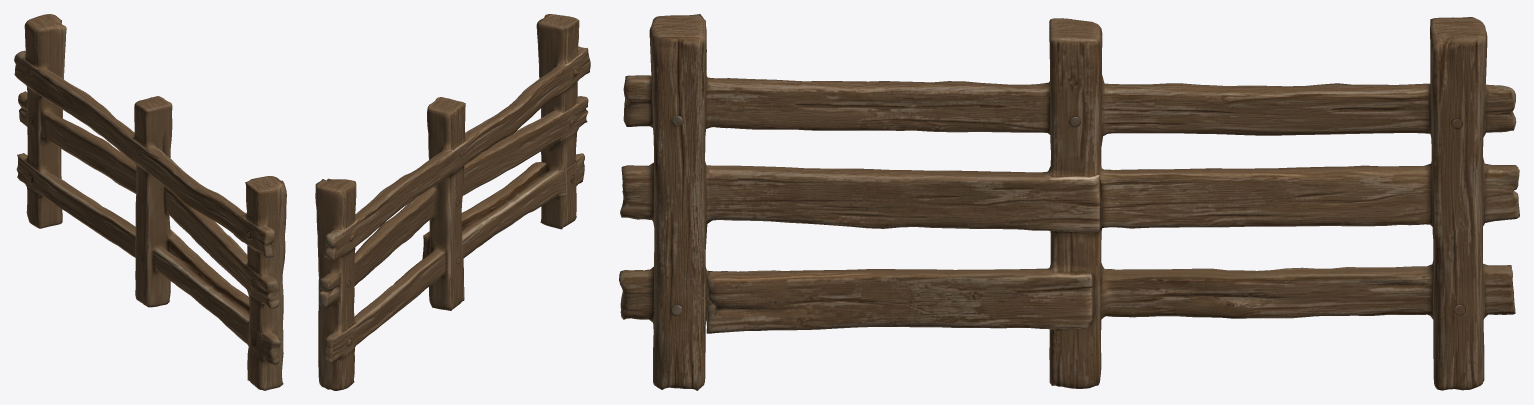
File: wooden+fence+3d+model.fbx
The picture shows the model from 3 angles, left to right: view 1: azimuth 30°, elevation 25°; view 2: azimuth 150°, elevation 25°; view 3: azimuth 270°, elevation 25°; orthographic projection. The views are drawn at different scales.
Visible parts, largest first — view 1: tripo_node_ed92077d; view 2: tripo_node_ed92077d; view 3: tripo_node_ed92077d.
Boxes of the visible parts, x1,y1,x2,y2 form: tripo_node_ed92077d: [14, 14, 286, 390]; tripo_node_ed92077d: [315, 14, 590, 390]; tripo_node_ed92077d: [619, 14, 1519, 390].
Bounding box in the file's own units: 8.74 × 43.23 × 99.88.
1 material, 1 textured.
